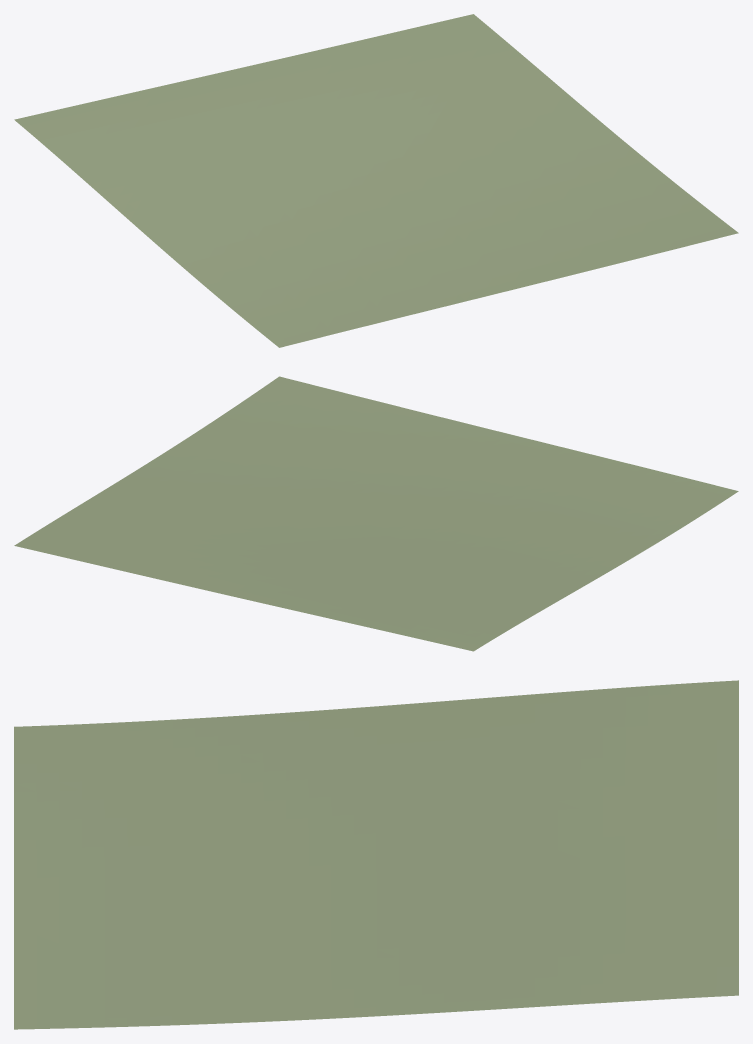
The model's file is desert-24-23.glb.
3 renders of one model, top to bottom at view 1: azimuth 30°, elevation 25°; view 2: azimuth 150°, elevation 25°; view 3: azimuth 270°, elevation 25°, orthographic. The views are drawn at different scales.
Visible parts, largest first — view 1: desert-24-23; view 2: desert-24-23; view 3: desert-24-23.
Part boxes in pixels (box(x1,y1,x2,y2)): desert-24-23: box(14, 14, 738, 347); desert-24-23: box(14, 376, 738, 651); desert-24-23: box(14, 680, 738, 1029).
Size of the model in its own units: 512 by 36.16 by 512.
